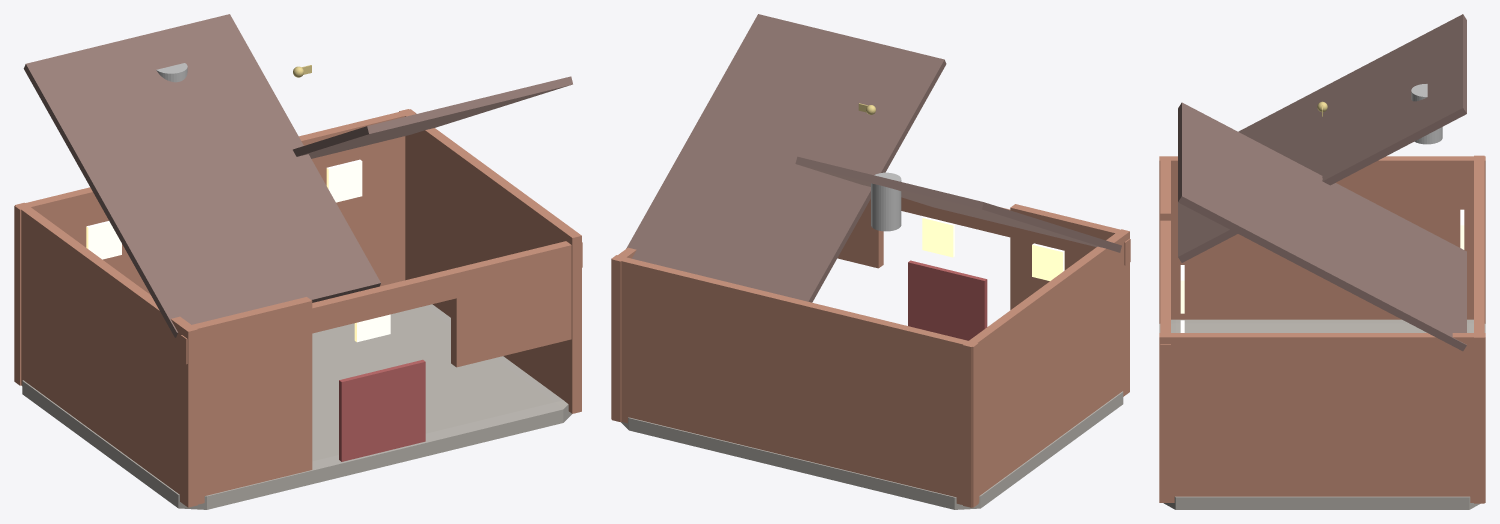
Rendered from speicherhaus_lod0.fbx.
3 renders of one model, left to right at view 1: azimuth 30°, elevation 25°; view 2: azimuth 150°, elevation 25°; view 3: azimuth 270°, elevation 25°, orthographic. The views are drawn at different scales.
Visible parts, largest first — view 1: Speicher_Dach_L_LOD0, Speicher_Wand_Links_LOD0, Speicher_Boden_LOD0, Speicher_Wand_Rechts_LOD0, Speicher_Wand_VL_LOD0, Speicher_Wand_Hinten_LOD0, Speicher_Wand_VF_LOD0, Speicher_Wand_VOR_LOD0, Speicher_Tuer_LOD0, Speicher_Dach_R_LOD0, Speicher_Fenster_2_LOD0, Speicher_Fenster_0_LOD0 (+1 smaller); view 2: Speicher_Wand_Hinten_LOD0, Speicher_Dach_R_LOD0, Speicher_Wand_Links_LOD0, Speicher_Boden_LOD0, Speicher_Tuer_LOD0, Speicher_Dach_L_LOD0, Speicher_Wand_VL_LOD0, Speicher_Wand_VF_LOD0, Speicher_Wand_Rechts_LOD0, Speicher_Wand_VOR_LOD0, Speicher_Schornstein_LOD0, Speicher_Fenster_4_LOD0 (+1 smaller); view 3: Speicher_Wand_Rechts_LOD0, Speicher_Dach_R_LOD0, Speicher_Wand_Links_LOD0, Speicher_Dach_L_LOD0, Speicher_Boden_LOD0, Speicher_Wand_Hinten_LOD0, Speicher_Wand_VF_LOD0, Speicher_Wand_VL_LOD0, Speicher_Schornstein_LOD0.
Boxes of the visible parts, x1,y1,x2,y2 form: Speicher_Dach_L_LOD0: (23, 14, 380, 337); Speicher_Wand_Links_LOD0: (15, 202, 197, 507); Speicher_Boden_LOD0: (22, 304, 571, 509); Speicher_Wand_Rechts_LOD0: (399, 109, 581, 413); Speicher_Wand_VL_LOD0: (187, 297, 312, 504); Speicher_Wand_Hinten_LOD0: (14, 109, 416, 385); Speicher_Wand_VF_LOD0: (180, 241, 582, 364); Speicher_Wand_VOR_LOD0: (451, 270, 571, 367); Speicher_Tuer_LOD0: (339, 359, 425, 461); Speicher_Dach_R_LOD0: (293, 76, 572, 158); Speicher_Fenster_2_LOD0: (326, 159, 362, 202); Speicher_Fenster_0_LOD0: (86, 221, 121, 259); Speicher_Wand_Hinten_LOD0: (611, 255, 978, 507); Speicher_Dach_R_LOD0: (626, 14, 946, 302); Speicher_Wand_Links_LOD0: (963, 229, 1129, 507); Speicher_Boden_LOD0: (621, 391, 1123, 509); Speicher_Tuer_LOD0: (908, 260, 987, 340); Speicher_Dach_L_LOD0: (795, 156, 1121, 252); Speicher_Wand_VL_LOD0: (1010, 204, 1122, 309); Speicher_Wand_VF_LOD0: (868, 197, 1130, 265); Speicher_Wand_Rechts_LOD0: (612, 247, 636, 422); Speicher_Wand_VOR_LOD0: (837, 199, 883, 268); Speicher_Schornstein_LOD0: (871, 172, 901, 231); Speicher_Fenster_4_LOD0: (922, 216, 954, 257); Speicher_Wand_Rechts_LOD0: (1159, 333, 1485, 502); Speicher_Dach_R_LOD0: (1178, 102, 1466, 351); Speicher_Wand_Links_LOD0: (1159, 156, 1485, 323); Speicher_Dach_L_LOD0: (1178, 14, 1466, 262); Speicher_Boden_LOD0: (1159, 319, 1485, 509); Speicher_Wand_Hinten_LOD0: (1474, 155, 1484, 503); Speicher_Wand_VF_LOD0: (1160, 220, 1170, 368); Speicher_Wand_VL_LOD0: (1160, 158, 1170, 220); Speicher_Schornstein_LOD0: (1411, 84, 1442, 144).
Size of the model in its own units: 16.5 by 13.4 by 12.5.
